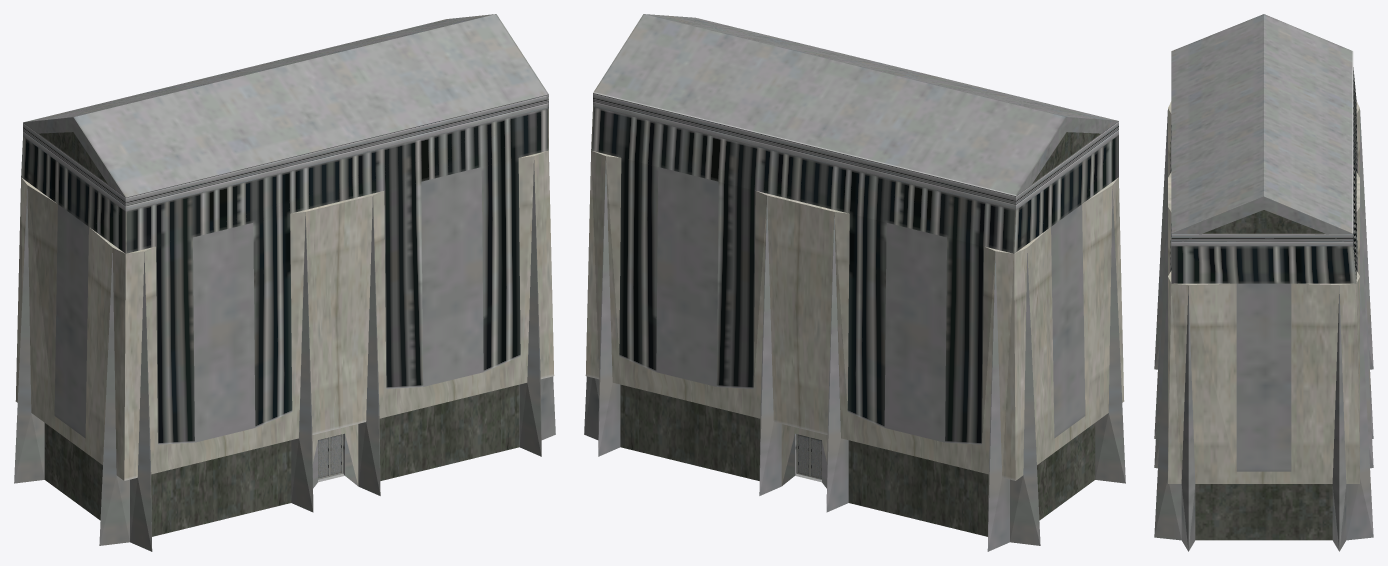
File: thm_corl_imprv_building_block_32x16_s01_l3.fbx
3 views of the same model, side by side, from view 1: azimuth 30°, elevation 25°; view 2: azimuth 150°, elevation 25°; view 3: azimuth 270°, elevation 25° (orthographic). The views are drawn at different scales.
Parts seen in each view (by area): view 1: mesh_node; view 2: mesh_node; view 3: mesh_node.
Part boxes in pixels (x1=…): mesh_node: x1=14, y1=14, x2=555, y2=551; mesh_node: x1=584, y1=14, x2=1125, y2=551; mesh_node: x1=1154, y1=14, x2=1373, y2=551.
Bounding box in the file's own units: 33.98 × 27.99 × 15.98.
Materials: 2 (2 with a texture image).
